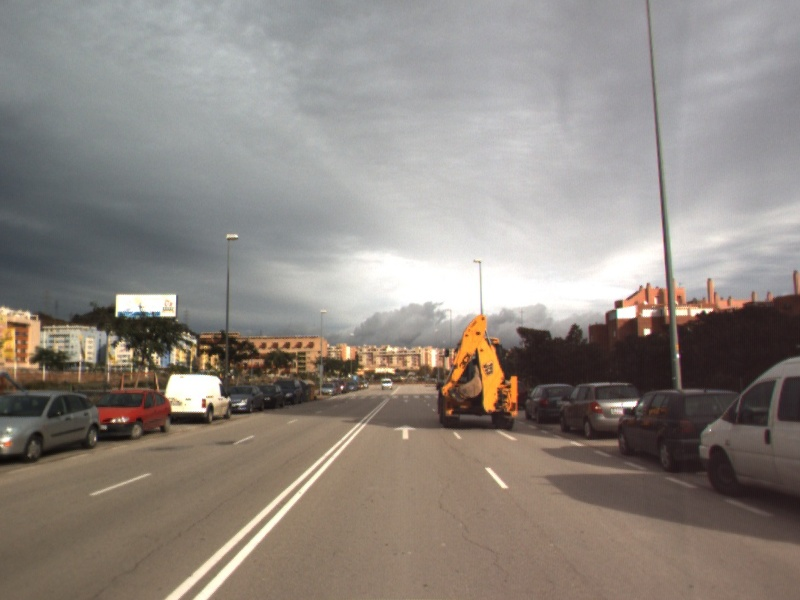STRAIGHT: (392, 422, 419, 441)
